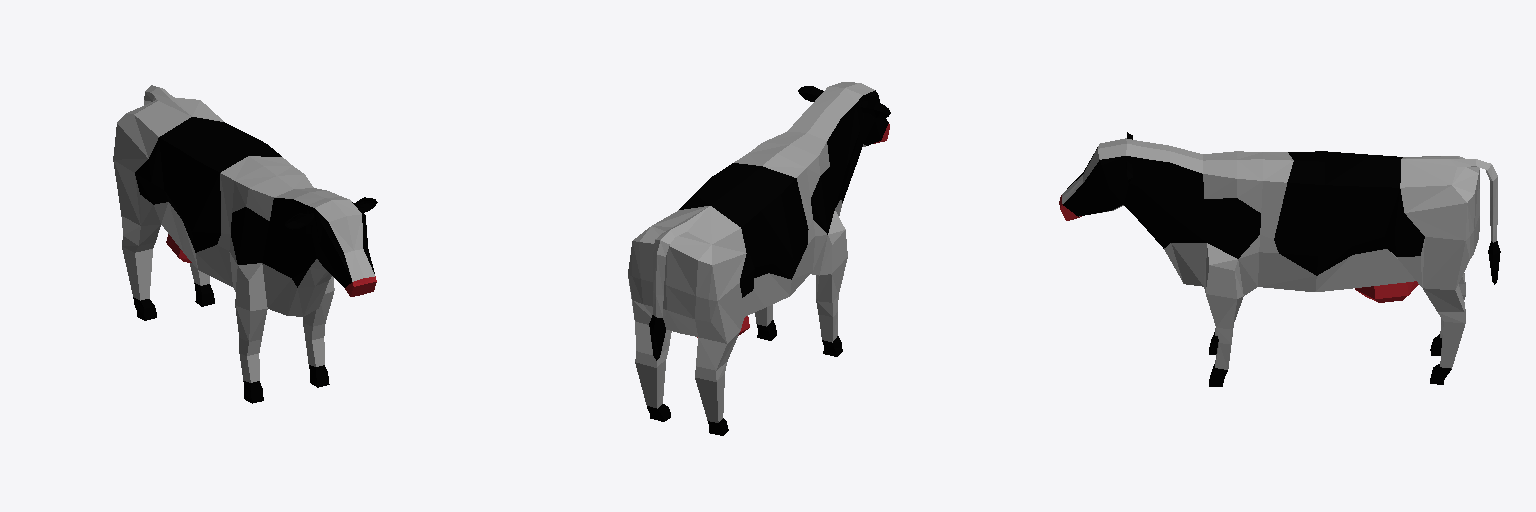
File: cow.obj
The picture shows the model from 3 angles: view 1: azimuth 30°, elevation 25°; view 2: azimuth 150°, elevation 25°; view 3: azimuth 270°, elevation 25°; orthographic projection.
Visible parts, largest first — view 1: Cow_Cylinder.001; view 2: Cow_Cylinder.001; view 3: Cow_Cylinder.001.
Part boxes in pixels (bbox=[...]): Cow_Cylinder.001: bbox=[113, 85, 377, 403]; Cow_Cylinder.001: bbox=[628, 82, 890, 435]; Cow_Cylinder.001: bbox=[1059, 132, 1500, 386].
Bounding box in the file's own units: 2.27 × 5.15 × 9.17.